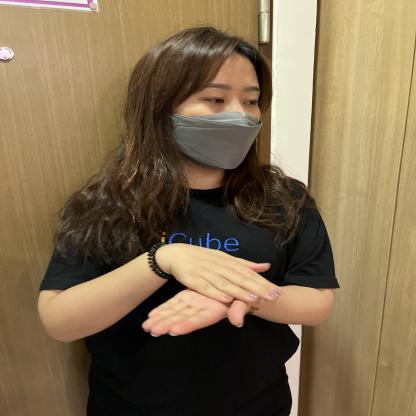Love: (68, 226, 379, 408)
